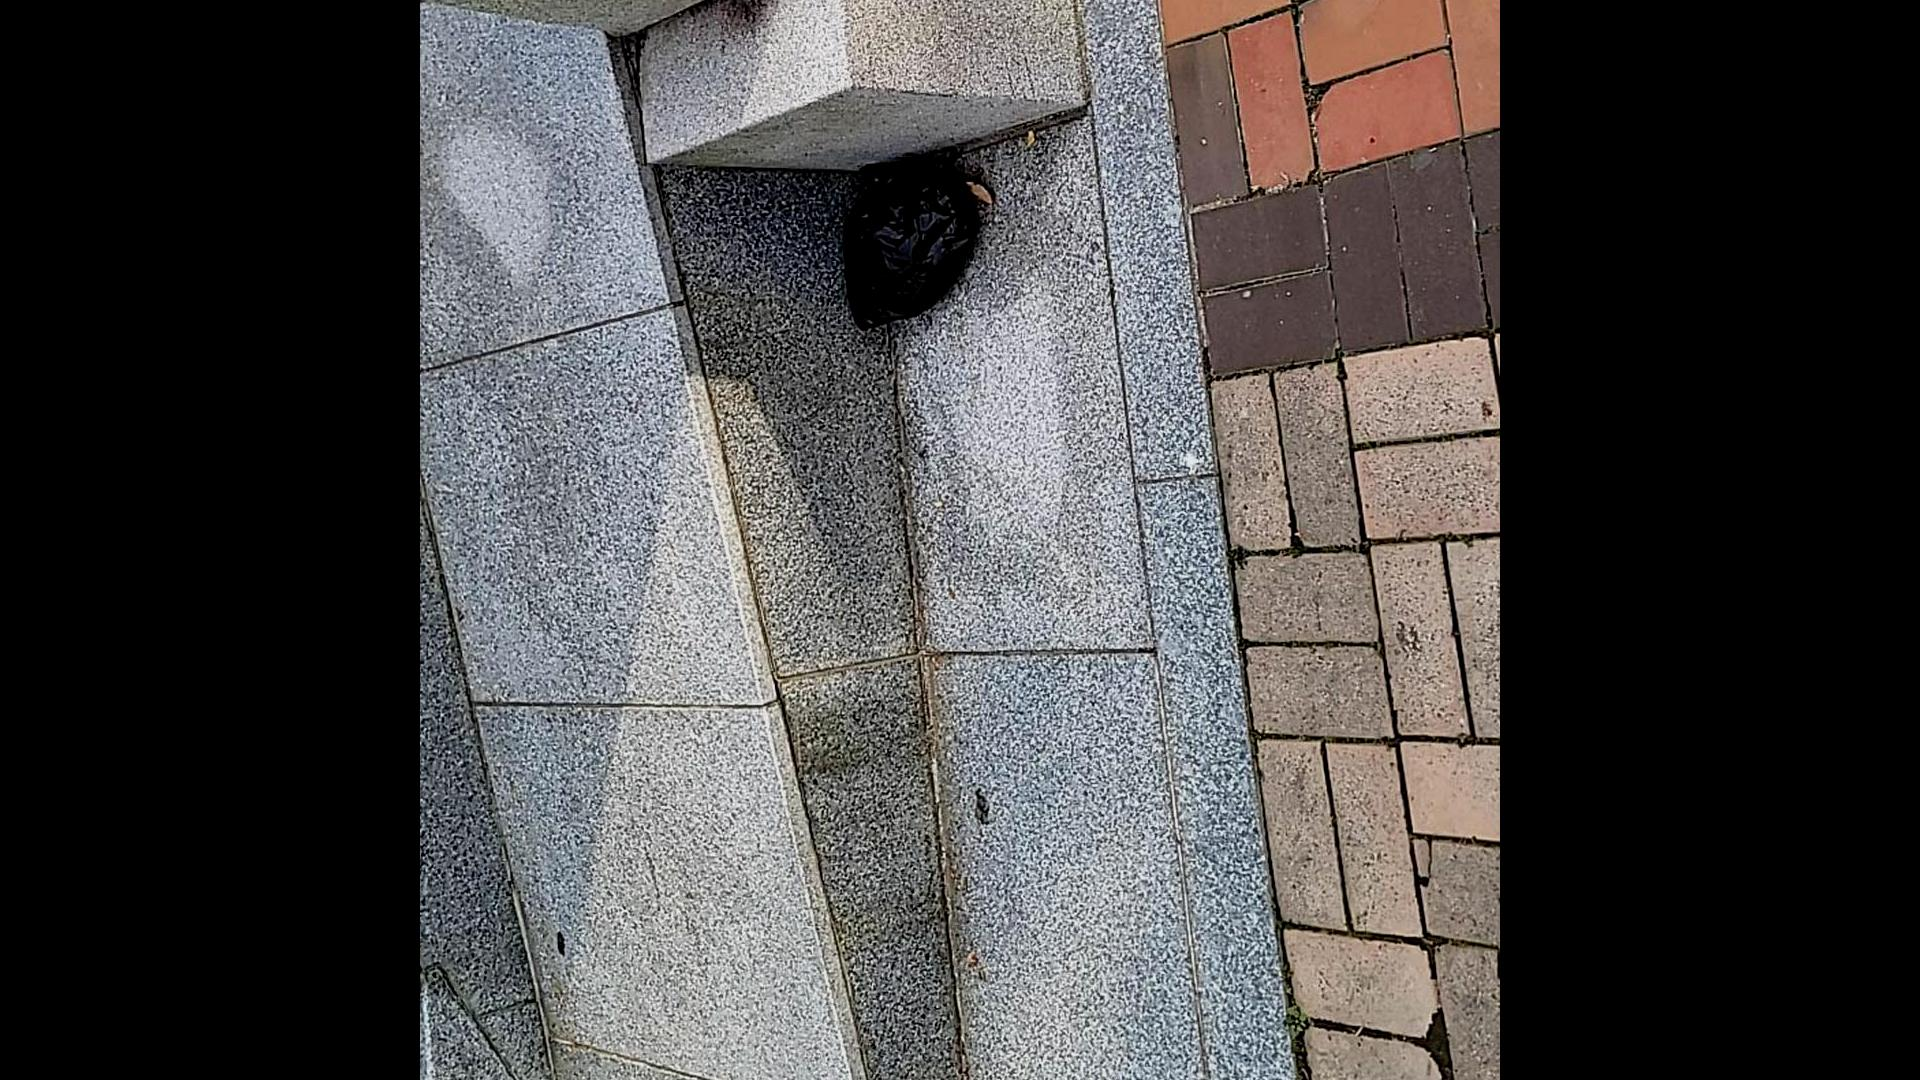black_bag: (827, 138, 1000, 340)
